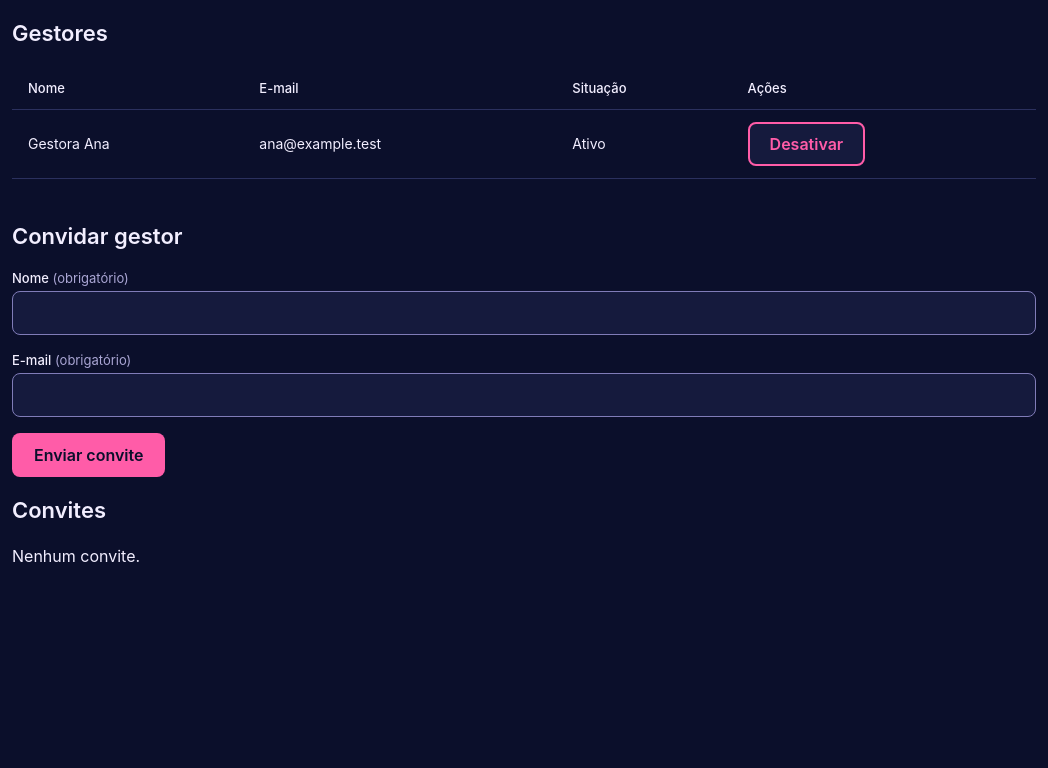
it: ManagersAdmin (US4, FR-075) › convida enviando só {email, displayName} e mostra o convite
Type "Novo" into the field labelled "Nome (obrigatório)" at (524,313), box top-left (12, 291), bottom-right (1036, 335)
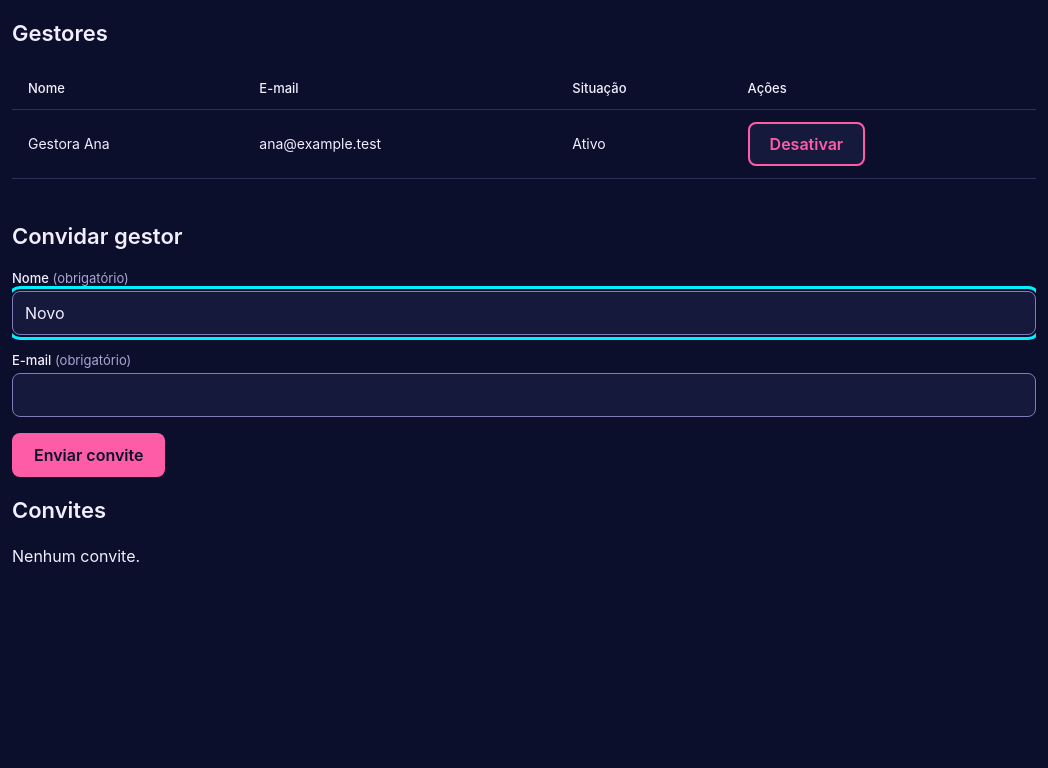
Type "novo@example.test" into the field labelled "E-mail (obrigatório)" at (524,395), box top-left (12, 373), bottom-right (1036, 417)
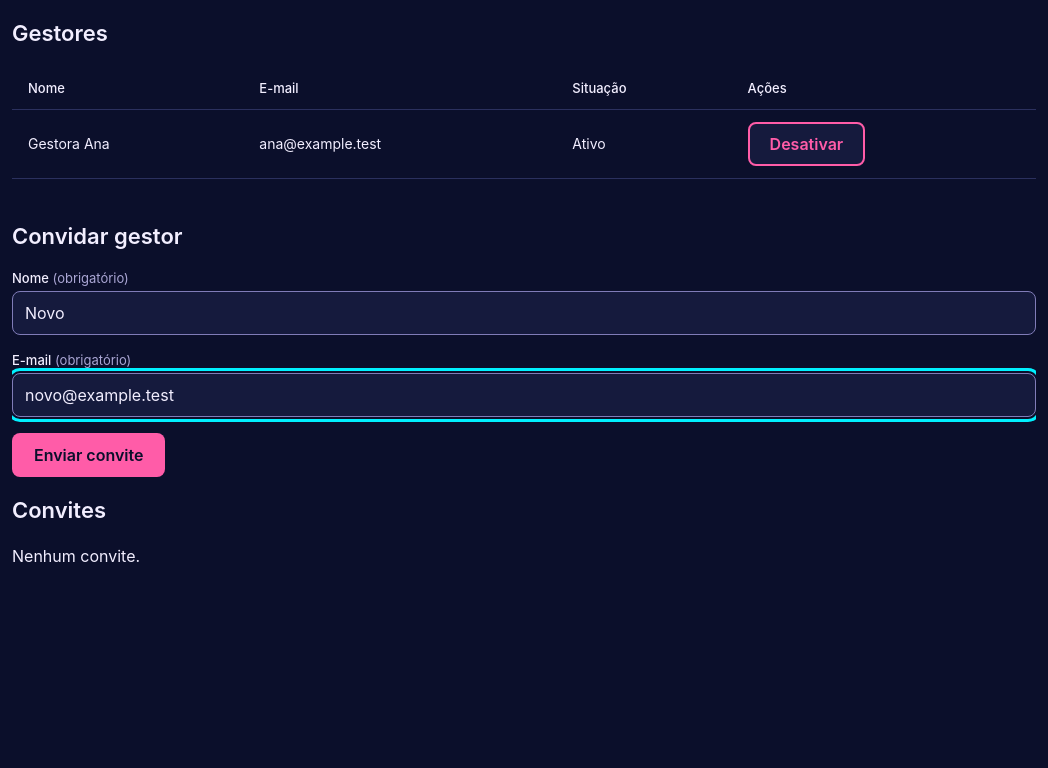
Click the button "Enviar convite" at (89,455), box top-left (12, 433), bottom-right (166, 477)
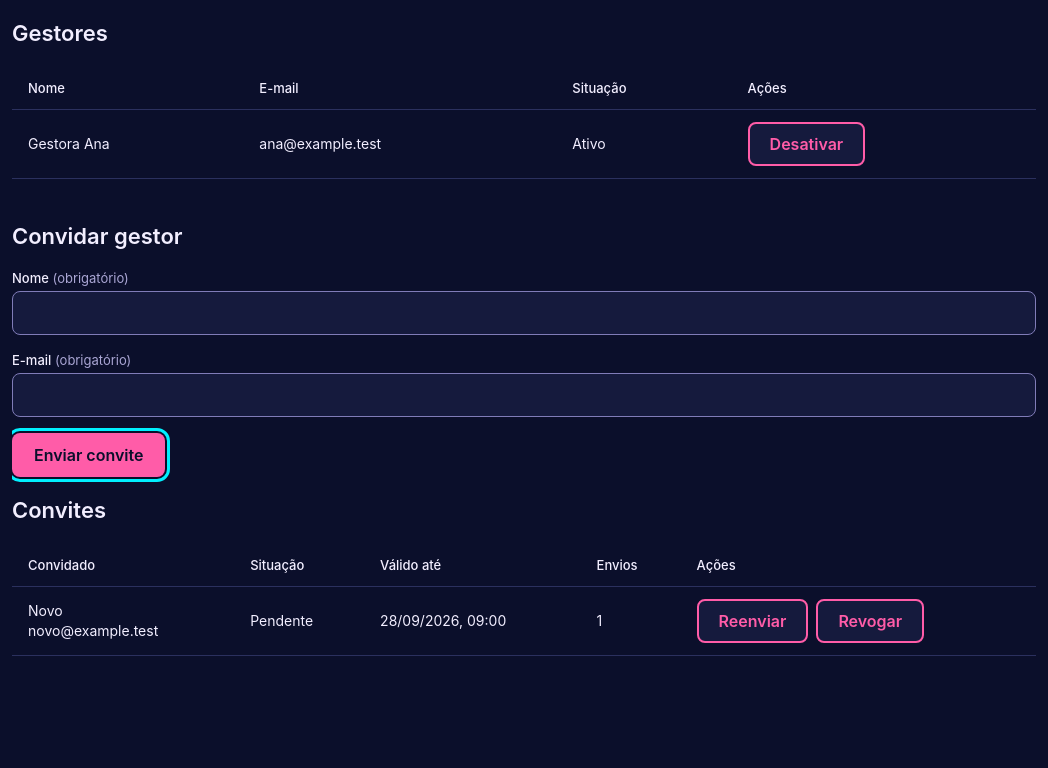
Expected: the button with aria-label "Reenviar convite para novo@example.test" is shown, top-left (697, 598), bottom-right (808, 642)
